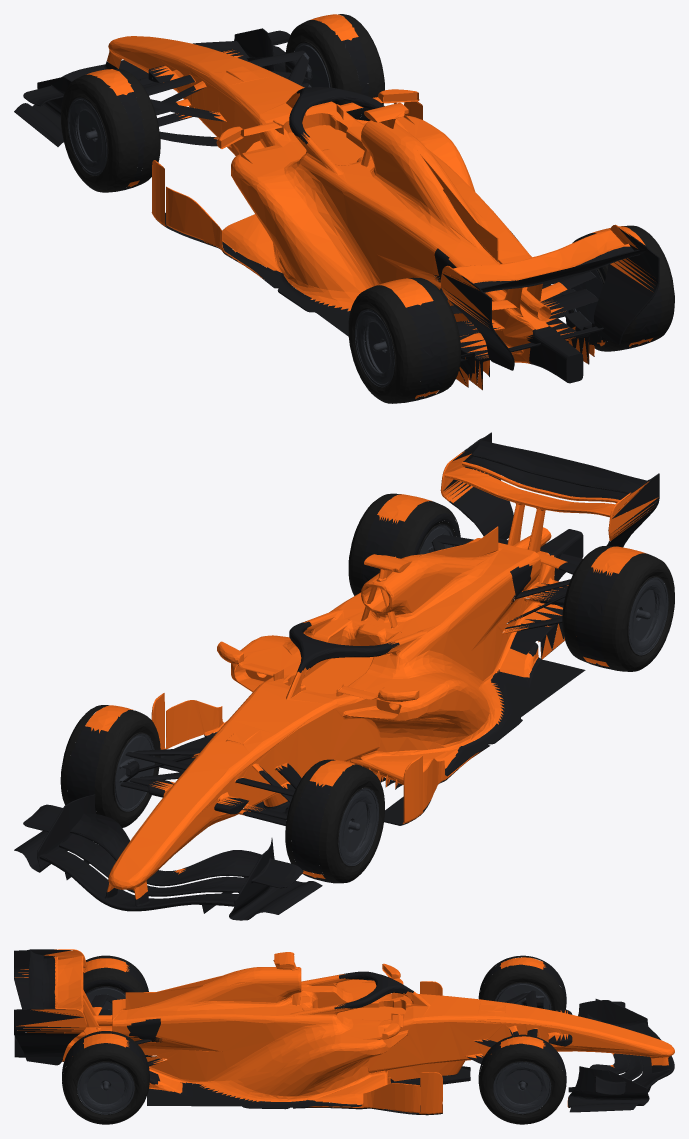
File: car.glb
3 renders of one model, top to bottom at view 1: azimuth 30°, elevation 25°; view 2: azimuth 150°, elevation 25°; view 3: azimuth 270°, elevation 25°, orthographic. The views are drawn at different scales.
Visible parts, largest first — view 1: body, carbon, tyre-FR, tyre-RR, tyre-FL, rim-RR, rim-FR, tyre-RL, rim-FL, rim-RL; view 2: body, carbon, tyre-RR, tyre-FR, tyre-FL, tyre-RL, rim-FR, rim-RR, rim-FL; view 3: body, carbon, tyre-RL, tyre-FL, rim-FL, rim-RL, tyre-FR, tyre-RR, rim-FR, rim-RR.
Part boxes in pixels (bbox=[...]): body: bbox=[86, 14, 655, 398]; carbon: bbox=[14, 28, 662, 401]; tyre-FR: bbox=[61, 69, 160, 192]; tyre-RR: bbox=[348, 277, 460, 403]; tyre-FL: bbox=[285, 14, 384, 120]; rim-RR: bbox=[354, 309, 394, 387]; rim-FR: bbox=[67, 97, 138, 175]; tyre-RL: bbox=[572, 225, 674, 351]; rim-FL: bbox=[292, 39, 358, 87]; rim-RL: bbox=[570, 269, 603, 323]; body: bbox=[85, 451, 658, 899]; carbon: bbox=[14, 432, 659, 920]; tyre-RR: bbox=[562, 546, 674, 671]; tyre-FR: bbox=[285, 759, 384, 883]; tyre-FL: bbox=[60, 705, 160, 827]; tyre-RL: bbox=[348, 493, 458, 595]; rim-FR: bbox=[338, 788, 378, 865]; rim-RR: bbox=[593, 569, 668, 655]; rim-FL: bbox=[91, 731, 154, 811]; body: bbox=[15, 949, 674, 1114]; carbon: bbox=[14, 949, 674, 1115]; tyre-RL: bbox=[62, 1031, 149, 1124]; tyre-FL: bbox=[478, 1034, 565, 1124]; rim-FL: bbox=[493, 1061, 551, 1114]; rim-RL: bbox=[77, 1062, 134, 1114]; tyre-FR: bbox=[478, 955, 565, 1010]; tyre-RR: bbox=[83, 955, 146, 1036]; rim-FR: bbox=[495, 983, 551, 1010]; rim-RR: bbox=[86, 987, 125, 1010].
Bounding box in the file's own units: 1.88 × 1.1 × 5.39.
